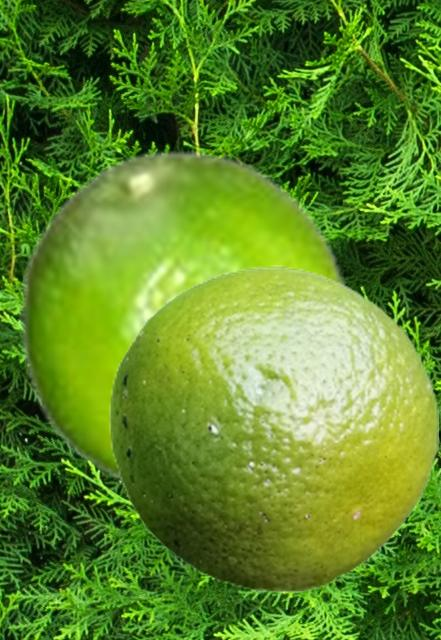calamansi: (19, 148, 352, 492), (109, 265, 437, 591)
